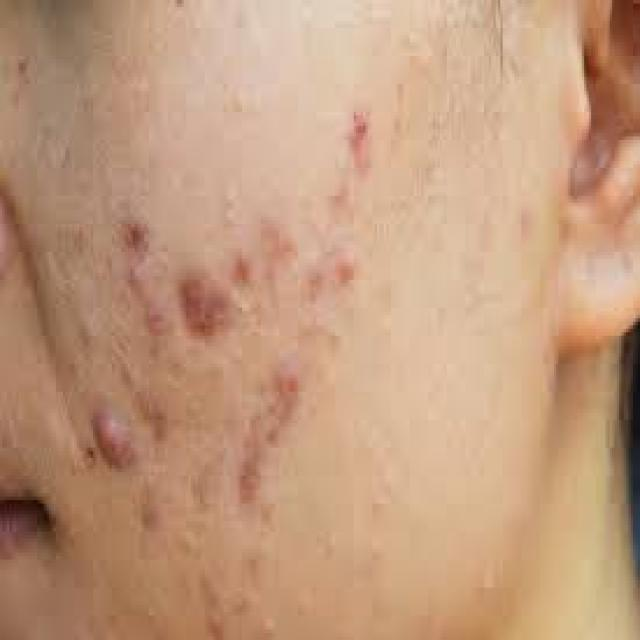Acne: (262, 353, 306, 454), (88, 401, 140, 476), (177, 270, 231, 342), (117, 212, 156, 260), (235, 452, 266, 512), (346, 104, 377, 148), (140, 299, 170, 340), (332, 250, 361, 292), (230, 247, 255, 289)
